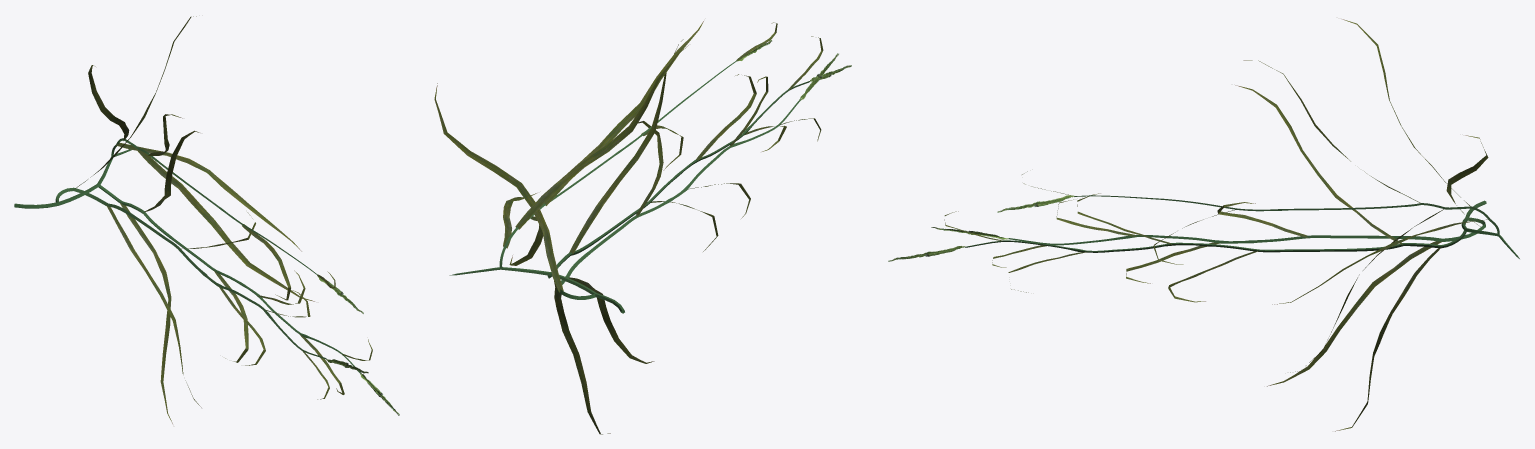
3 views of the same model, side by side, from view 1: azimuth 30°, elevation 25°; view 2: azimuth 150°, elevation 25°; view 3: azimuth 270°, elevation 25° (orthographic). The views are drawn at different scales.
Parts seen in each view (by area): view 1: GC08_3; view 2: GC08_3; view 3: GC08_3.
Part boxes in pixels (bbox=[...]): GC08_3: bbox=[14, 16, 399, 423]; GC08_3: bbox=[434, 21, 851, 434]; GC08_3: bbox=[888, 19, 1519, 431].
Size of the model in its own units: 0.3041 by 0.5343 by 0.7994.
Materials: 3 (3 with a texture image).
